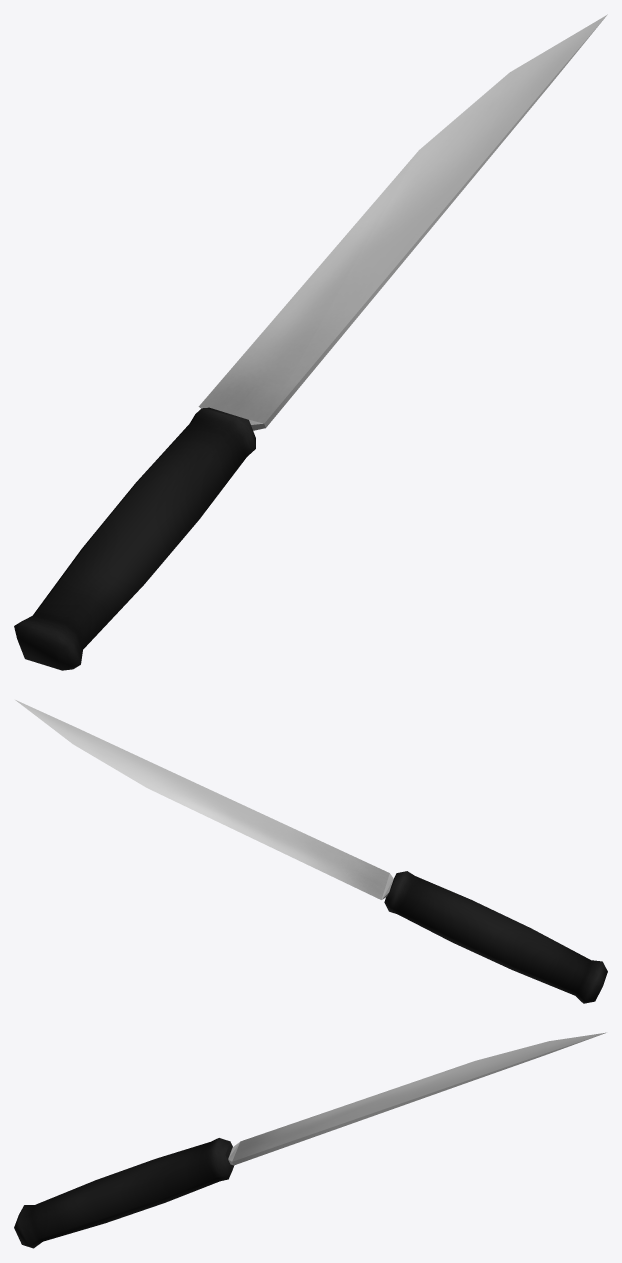
File: Knife.FBX
3 views of the same model, one above another, from view 1: azimuth 30°, elevation 25°; view 2: azimuth 150°, elevation 25°; view 3: azimuth 330°, elevation 25° (orthographic). The views are drawn at different scales.
Parts seen in each view (by area): view 1: Box127; view 2: Box127; view 3: Box127.
Part boxes in pixels (x1,y1,x2,y2): Box127: [14, 14, 607, 670]; Box127: [15, 700, 607, 1003]; Box127: [14, 1032, 606, 1248].
Bounding box in the file's own units: 81.73 × 40.05 × 33.05.
1 material, 1 textured.
